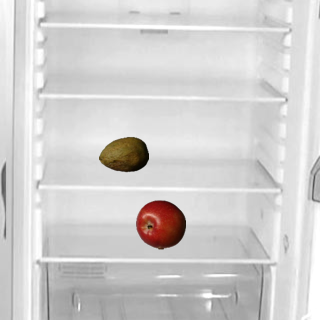Apple Braeburn: (135, 199, 185, 249)
Papaya: (98, 129, 148, 179)
